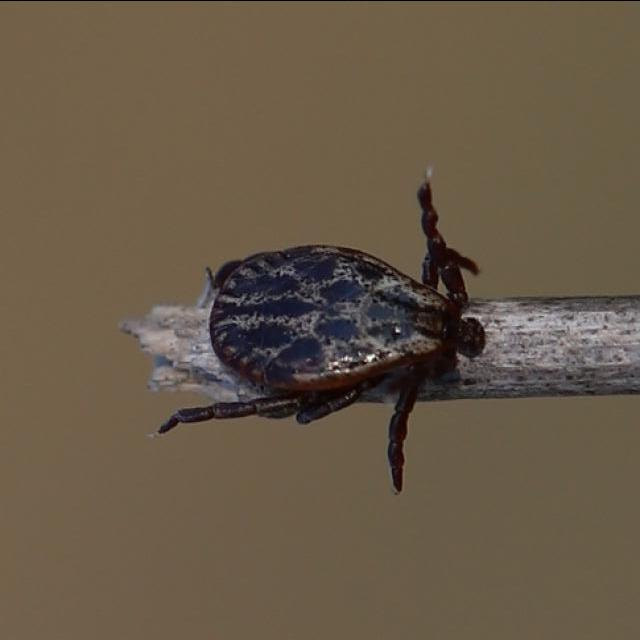Dermacentor Reticulatus-M: (168, 177, 488, 492)
